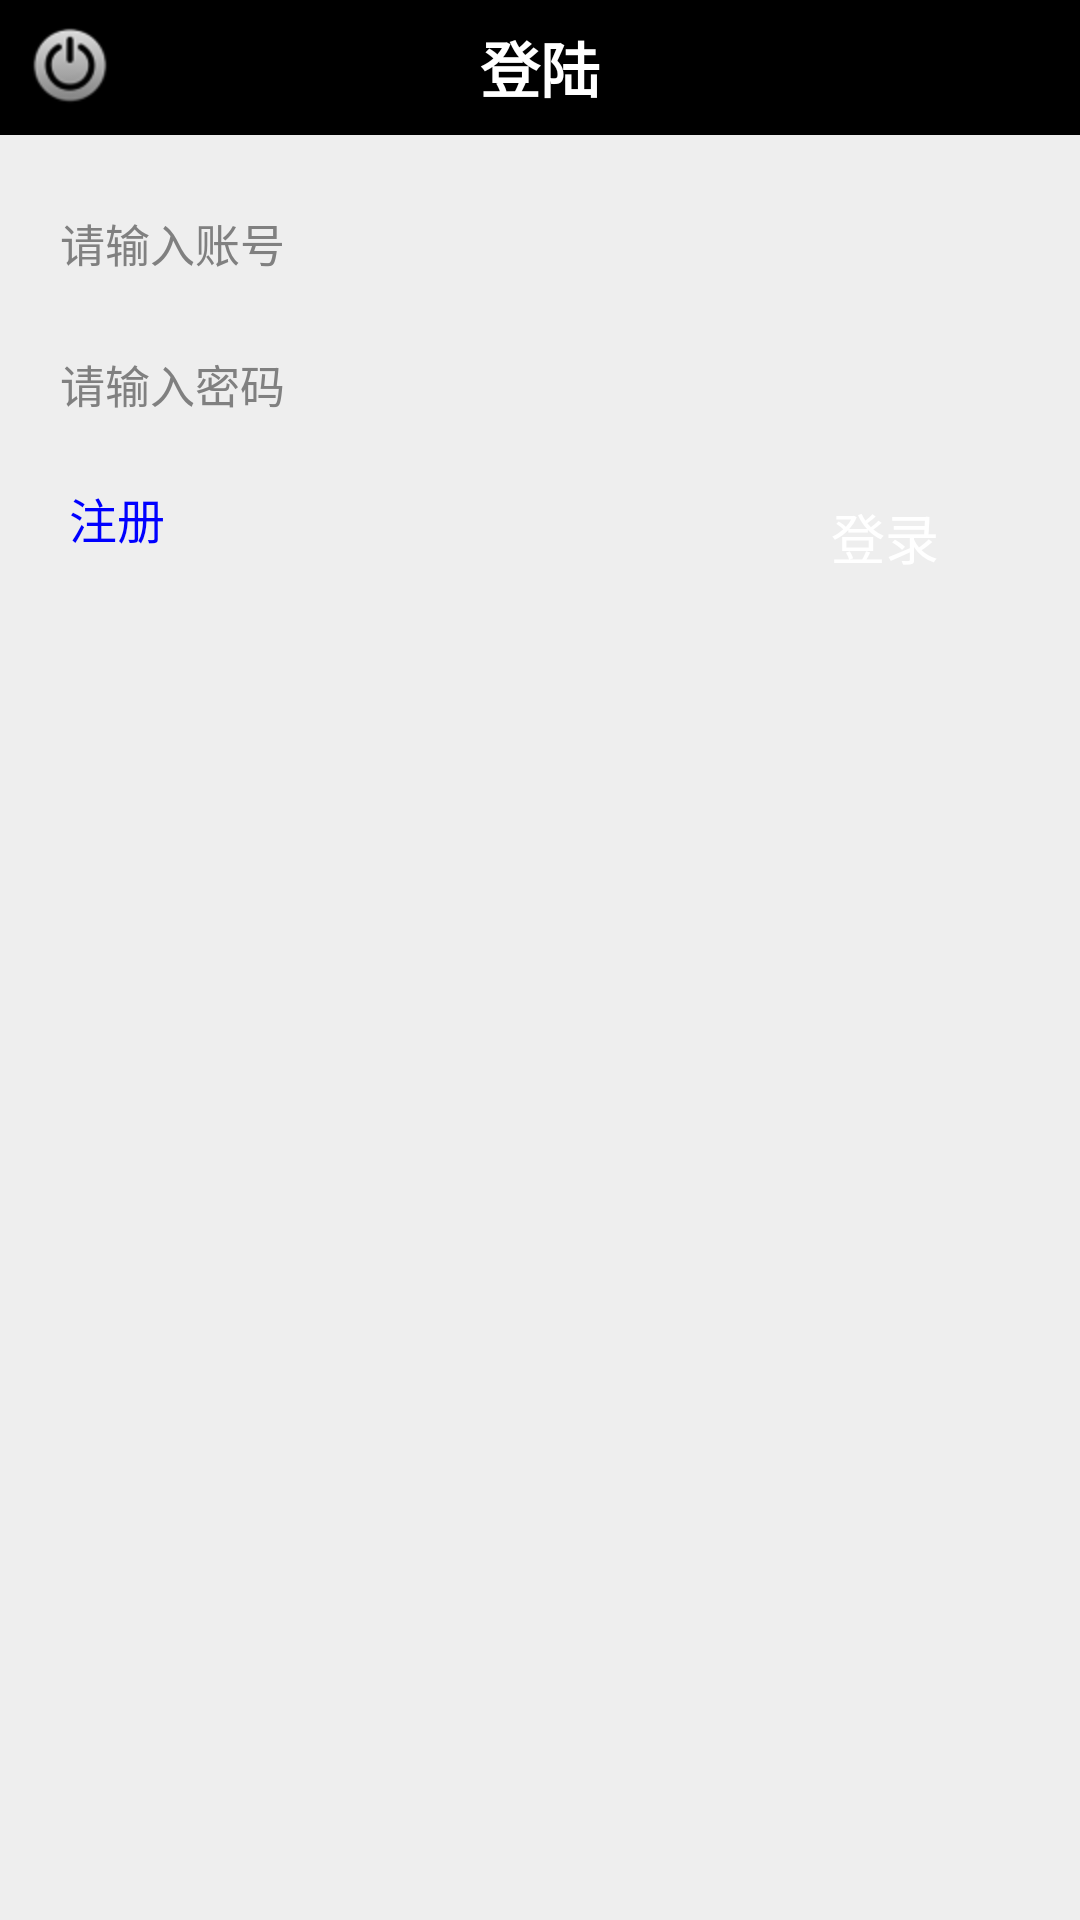

Named icons in this screenshot (1080x1920) and their bounding boxes, [left=x1, top=y1, right=x2, bottom=y2]:
exit: [left=33, top=28, right=107, bottom=102]
